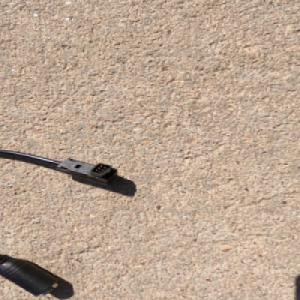Wire: (0, 145, 120, 296)
